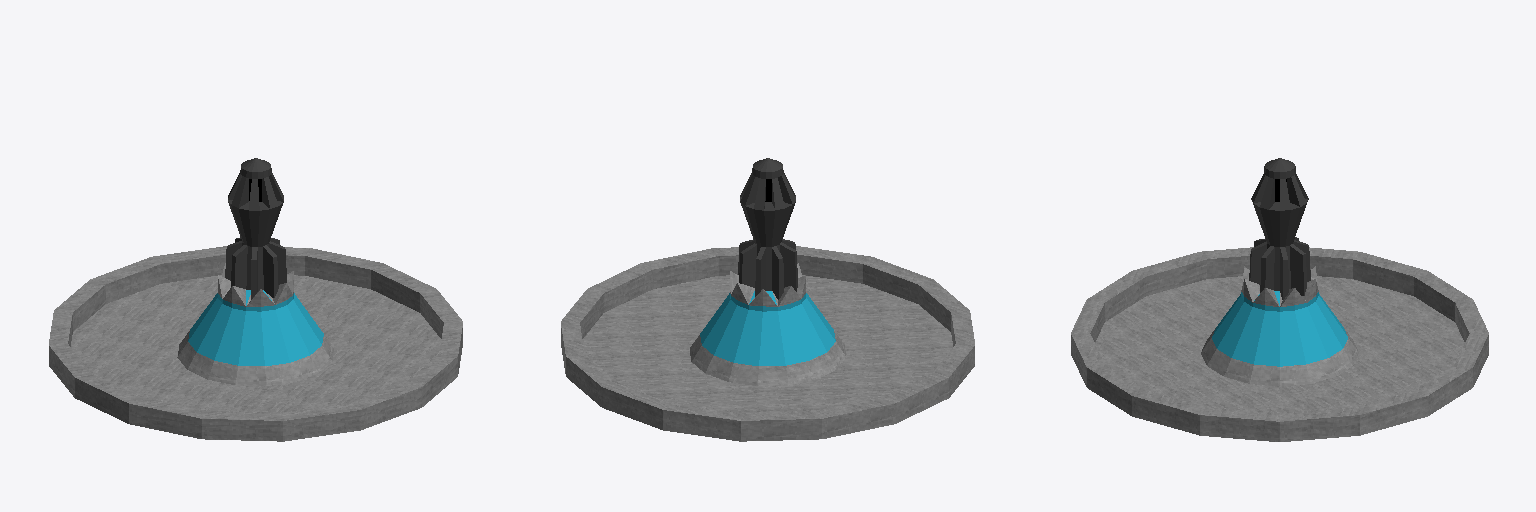
The picture shows the model from 3 angles: view 1: azimuth 30°, elevation 25°; view 2: azimuth 150°, elevation 25°; view 3: azimuth 270°, elevation 25°; orthographic projection.
Visible parts, largest first — view 1: fountain_large; view 2: fountain_large; view 3: fountain_large.
Part boxes in pixels (x1,y1,x2,y2): fountain_large: (49, 158, 462, 441); fountain_large: (561, 158, 974, 441); fountain_large: (1071, 158, 1488, 441).
Bounding box in the file's own units: 11.8 × 6.1 × 11.8.
4 materials, 1 textured.